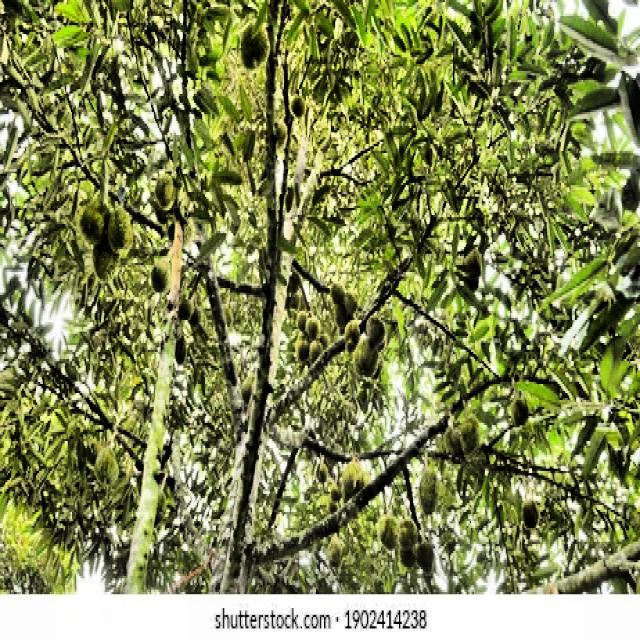arvore: (206, 144, 331, 588), (114, 164, 199, 592)
